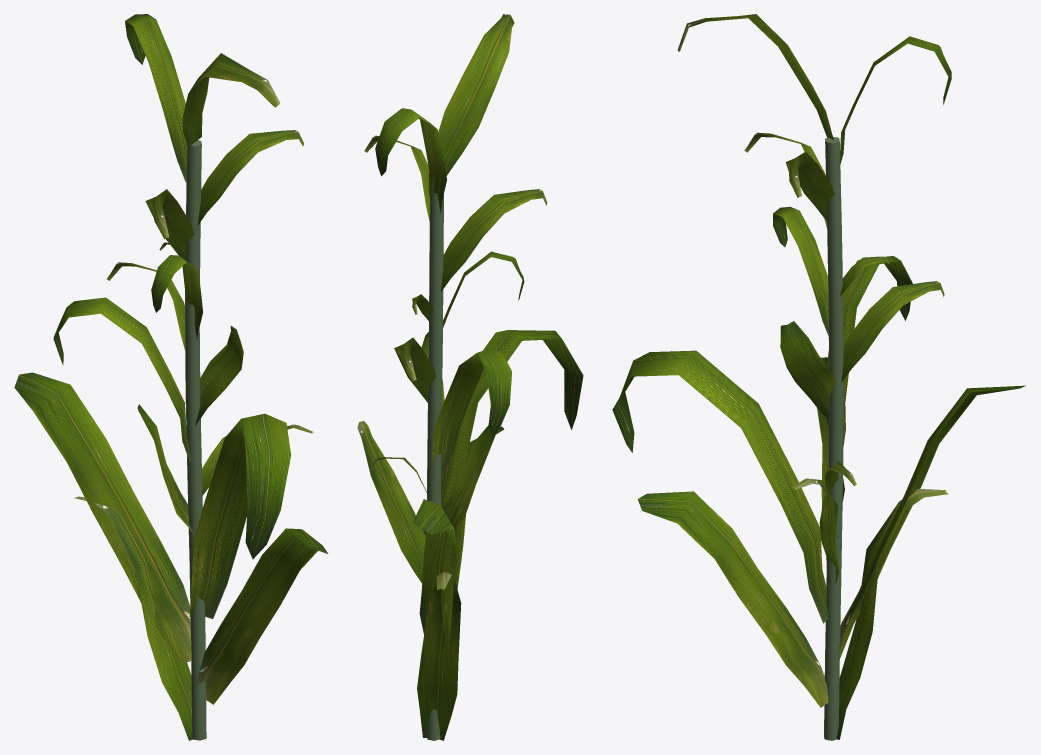
Rendered from milho3.fbx.
The picture shows the model from 3 angles, left to right: view 1: azimuth 30°, elevation 25°; view 2: azimuth 150°, elevation 25°; view 3: azimuth 270°, elevation 25°; orthographic projection. The views are drawn at different scales.
Parts seen in each view (by area): view 1: milho3; view 2: milho3; view 3: milho3.
Part boxes in pixels (x1=…): milho3: x1=14, y1=14, x2=327, y2=740; milho3: x1=357, y1=14, x2=583, y2=740; milho3: x1=612, y1=14, x2=1025, y2=740.
Bounding box in the file's own units: 222 × 726 × 380.
